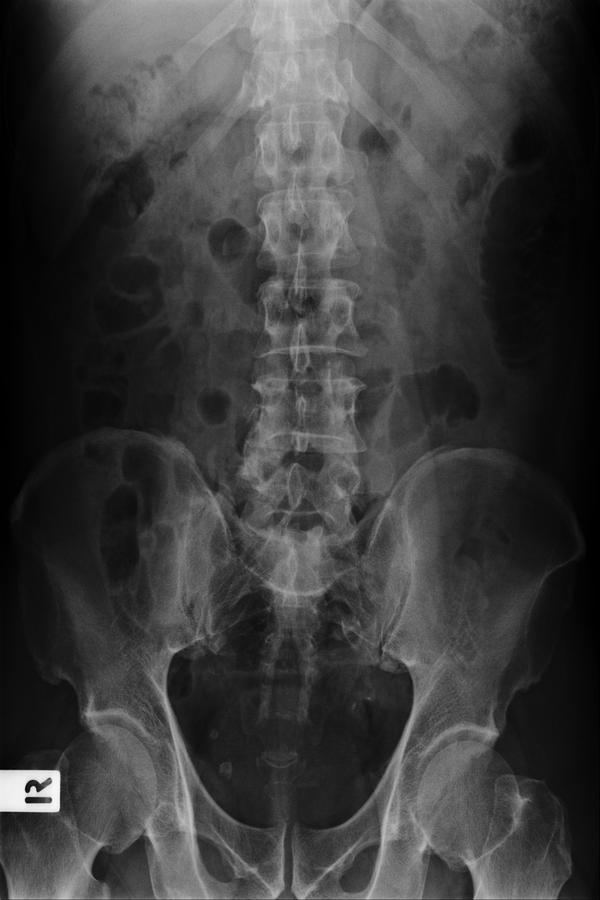lumbar scoliosis: (239, 14, 367, 525)
